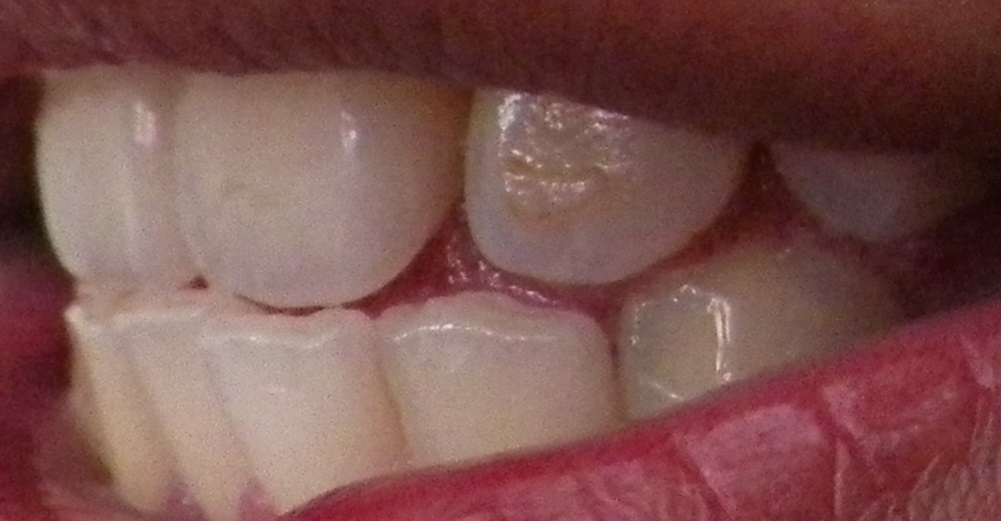boca: (27, 83, 922, 510)
